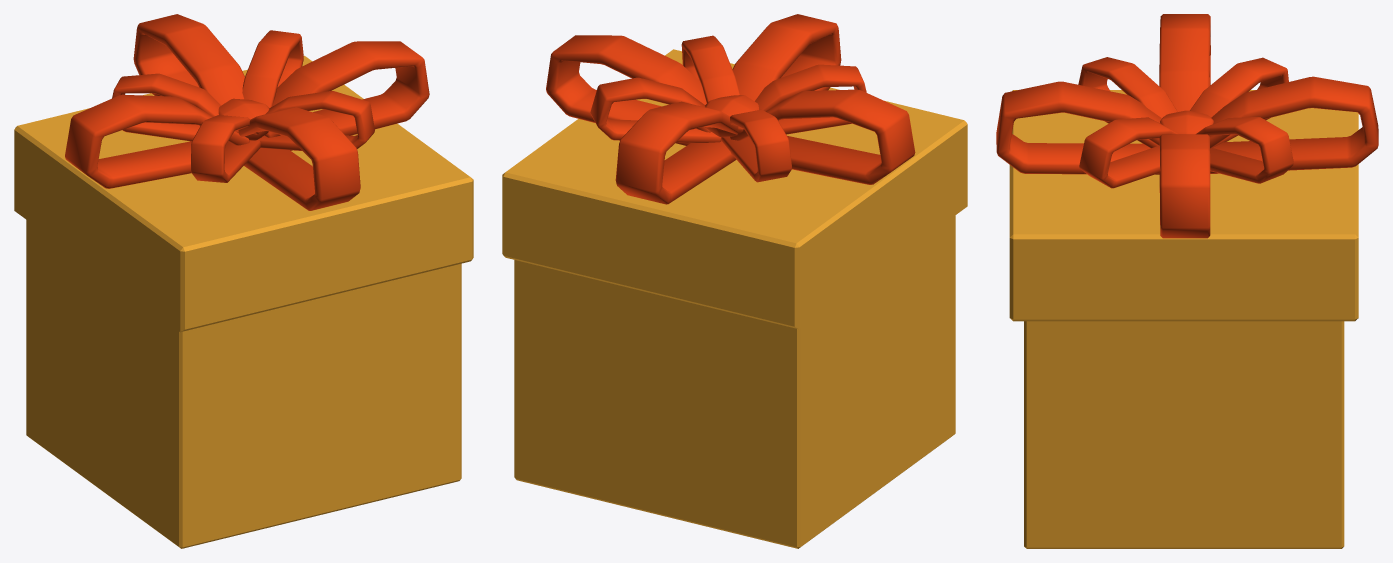
Rendered from gift animation.fbx.
The picture shows the model from 3 angles, left to right: view 1: azimuth 30°, elevation 25°; view 2: azimuth 150°, elevation 25°; view 3: azimuth 270°, elevation 25°; orthographic projection. The views are drawn at different scales.
Parts seen in each view (by area): view 1: hop, nap, no; view 2: hop, nap, no; view 3: hop, nap, no.
Part boxes in pixels (x1,y1,x2,y2): hop: (26, 220, 461, 548); nap: (14, 55, 473, 332); no: (65, 14, 429, 210); hop: (514, 215, 955, 548); nap: (502, 49, 967, 329); no: (546, 14, 915, 204); hop: (1024, 321, 1344, 548); nap: (1009, 90, 1358, 321); no: (996, 14, 1378, 238).
Bounding box in the file's own units: 234 × 250 × 219.
